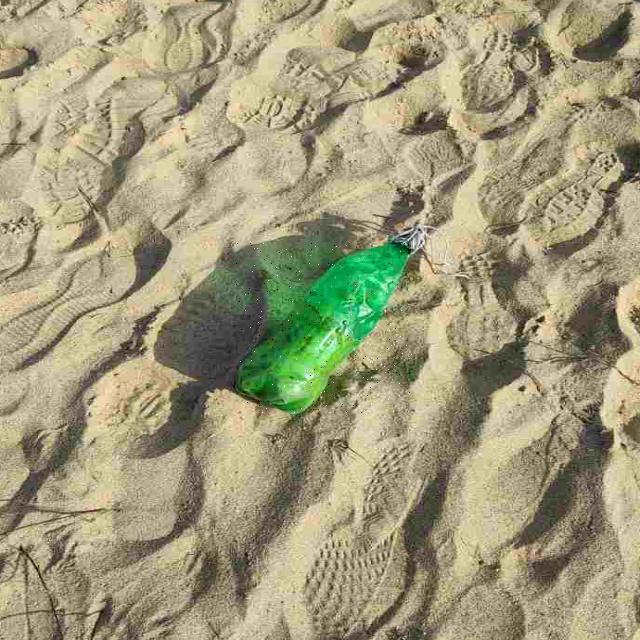plastic: (236, 242, 412, 414)
